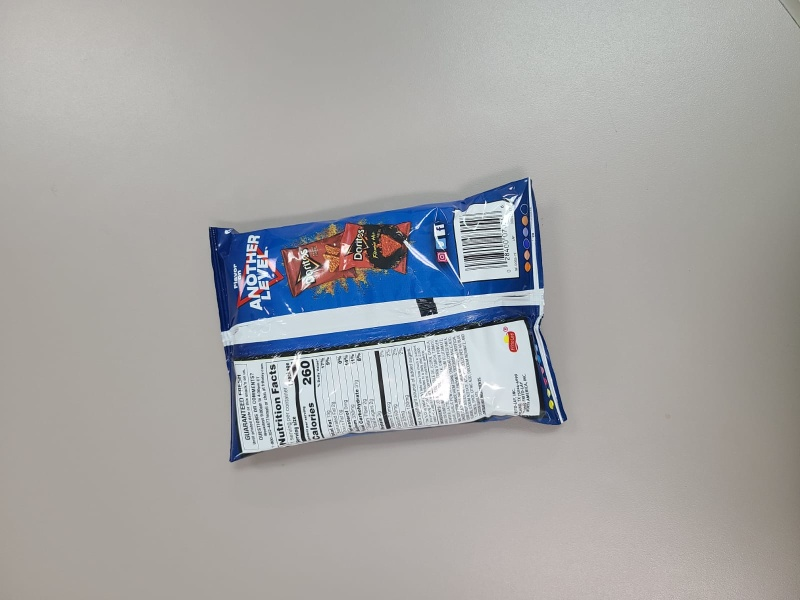doritos: (208, 176, 567, 463)
